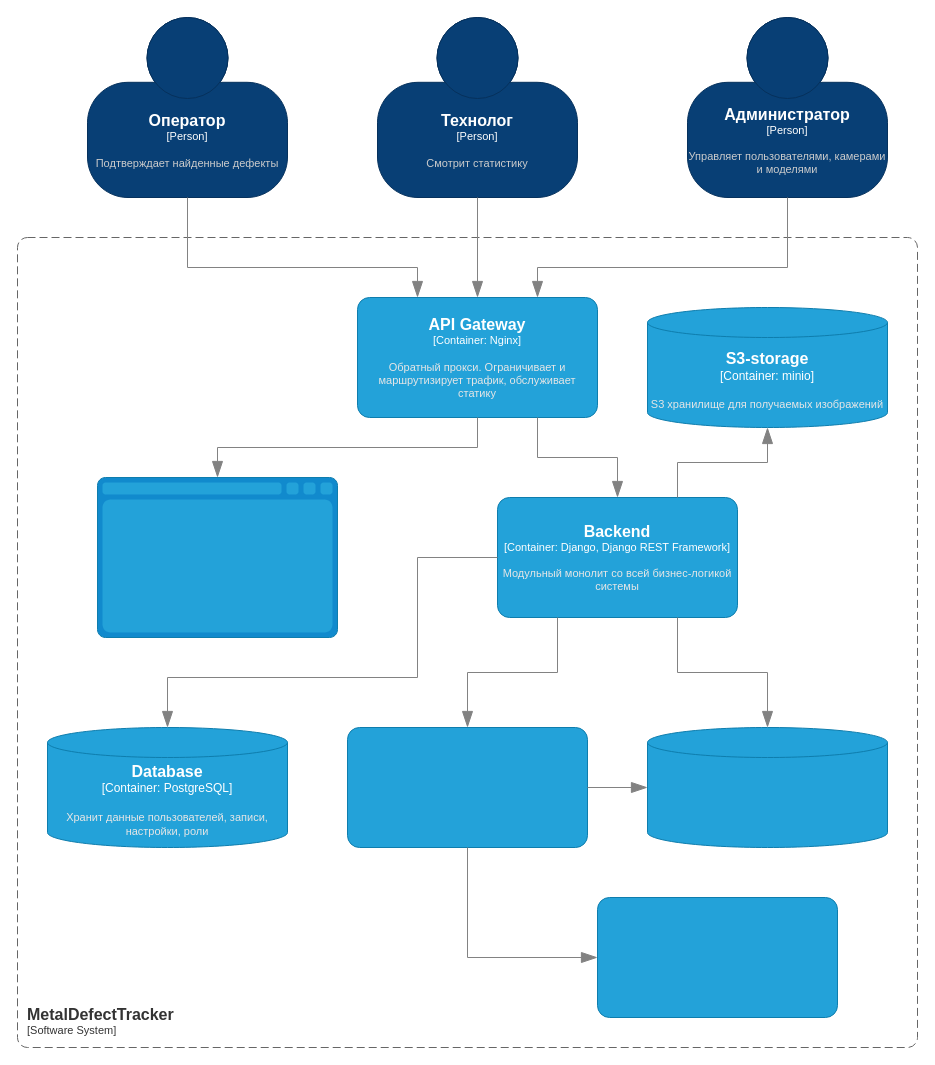
Some shapes in this 935 by 1065 pixel diagram are drawn without their labels. The box of each missing label's shape, as (x1, y1, x2, y2) in pixels:
Broker & Cache [Container: Redis] Брокер задач для воркера. Кеширование данных: (646, 726, 888, 848)
Frontend [Container: React] Фронтед-приложение с пользовательским интерфейсом: (96, 476, 338, 638)
ML-service [Container: FastAPI] Сервис для предсказания дефектов на изображениях: (596, 896, 838, 1018)
Worker [Container: Celery] Обработка фоновых задач и поступающих изображений: (346, 726, 588, 848)
